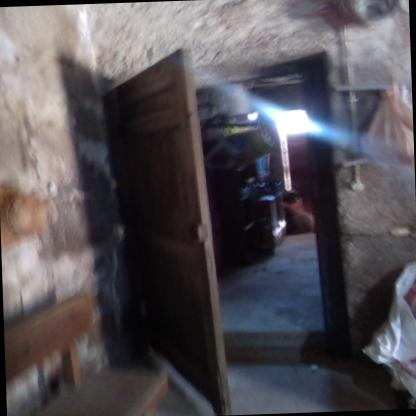semi: (98, 43, 353, 402)
